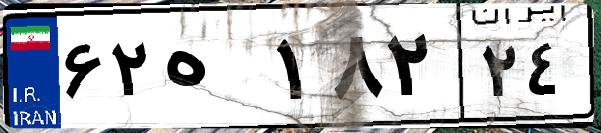1: (270, 28, 330, 110)
2: (385, 28, 445, 110), (475, 38, 525, 113), (110, 28, 158, 98)
4: (525, 38, 570, 115)
6: (57, 26, 110, 100)
8: (330, 28, 385, 110)
ه: (158, 20, 270, 120)
